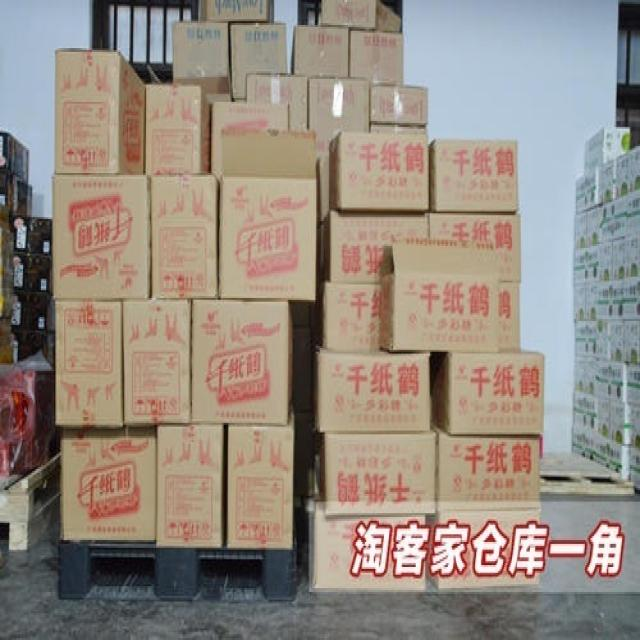Carton: (63, 306, 220, 544), (52, 46, 201, 171), (218, 181, 314, 298), (51, 177, 147, 294), (189, 304, 287, 413), (378, 275, 498, 346), (319, 352, 429, 429), (324, 432, 434, 507), (54, 302, 119, 425), (228, 423, 293, 544), (154, 177, 216, 294), (453, 352, 543, 432), (442, 438, 539, 505), (339, 138, 426, 211), (435, 138, 516, 208)
